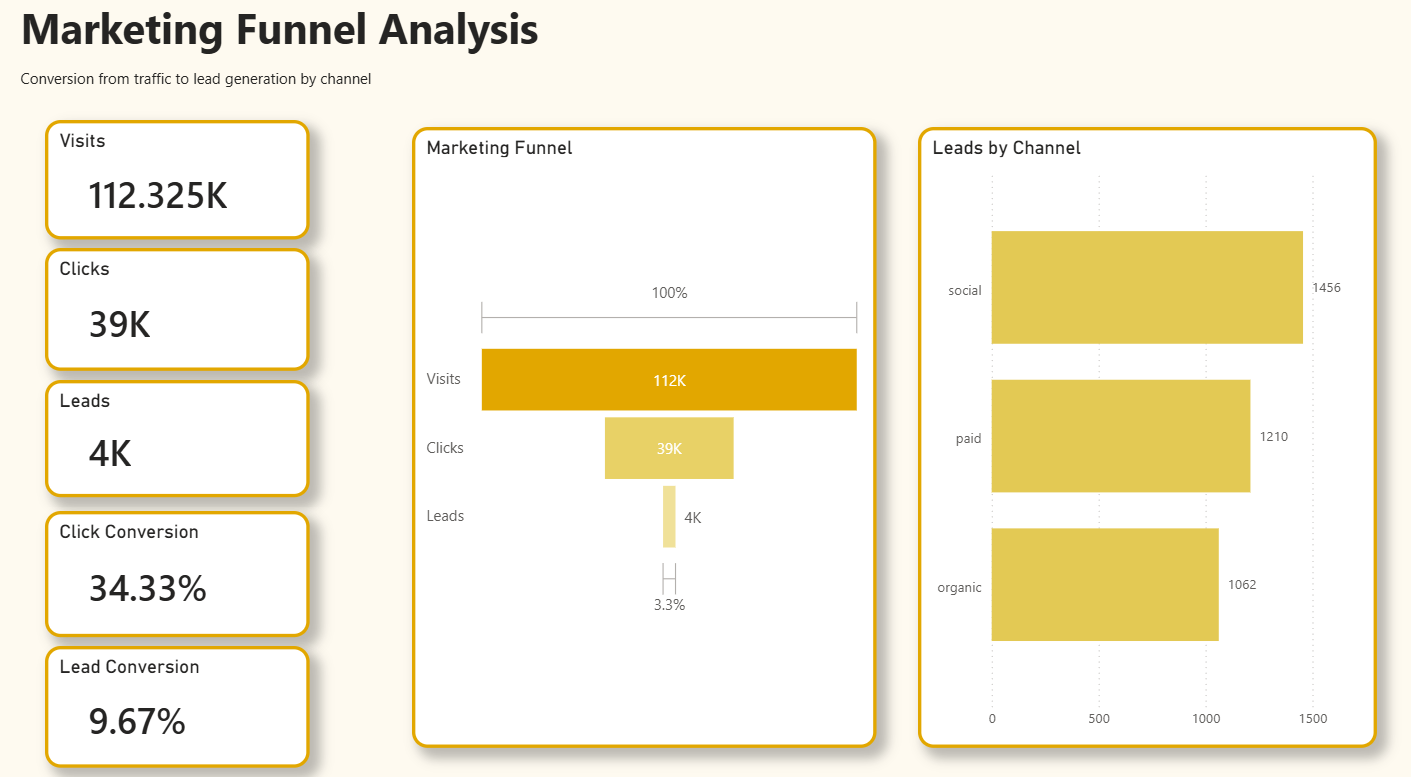

Layout of this report page (visuals, bound fields, positions):
{"tool":"powerbi","page":{"name":"Marketing Funnel","canvas":[1280,720],"ordinal":1},"visuals":[{"type":"cardVisual","title":"Visits","fields":{"Data":["Sum(marketing_data.visits)"]},"box":[41.8,120.6,237.3,102.1],"z":0},{"type":"cardVisual","title":"Clicks","fields":{"Data":["Sum(marketing_data.clicks)"]},"box":[41.8,231.5,237.3,113.8],"z":1000},{"type":"cardVisual","title":"Leads","fields":{"Data":["Sum(marketing_data.leads)"]},"box":[41.8,354,237.3,105],"z":2000},{"type":"cardVisual","title":"Click Conversion","fields":{"Data":["marketing_data.Visit to Click"]},"box":[41.8,470.8,237.3,112.8],"z":3000},{"type":"cardVisual","title":"Lead Conversion","fields":{"Data":["marketing_data.Click to Lead"]},"box":[41.8,592.3,237.3,108.9],"z":4000},{"type":"funnel","title":"Marketing Funnel","fields":{"Y":["Sum(marketing_data.visits)","Sum(marketing_data.clicks)","Sum(marketing_data.leads)"]},"box":[370.6,127.4,416.3,556.4],"z":5000},{"type":"clusteredBarChart","title":"Leads by Channel","fields":{"Category":["marketing_data.source"],"Y":["Sum(marketing_data.leads)"]},"box":[823.8,127.4,411.4,556.4],"z":6000},{"type":"textbox","box":[15.6,7.8,1094.2,62.2],"z":7000},{"type":"textbox","box":[15.6,70,1127.3,50.6],"z":8000}]}

Visuals, with their boxes in screenshot pixels (x1, y1, x2, y2), scaled from the page's 1280x720 canvas onto the 1411x777 screenshot:
"Visits" cardVisual: [46,130,308,240]
"Clicks" cardVisual: [46,250,308,373]
"Leads" cardVisual: [46,382,308,495]
"Click Conversion" cardVisual: [46,508,308,630]
"Lead Conversion" cardVisual: [46,639,308,757]
"Marketing Funnel" funnel: [409,137,867,738]
"Leads by Channel" clusteredBarChart: [908,137,1362,738]
textbox: [17,8,1223,76]
textbox: [17,76,1260,130]
